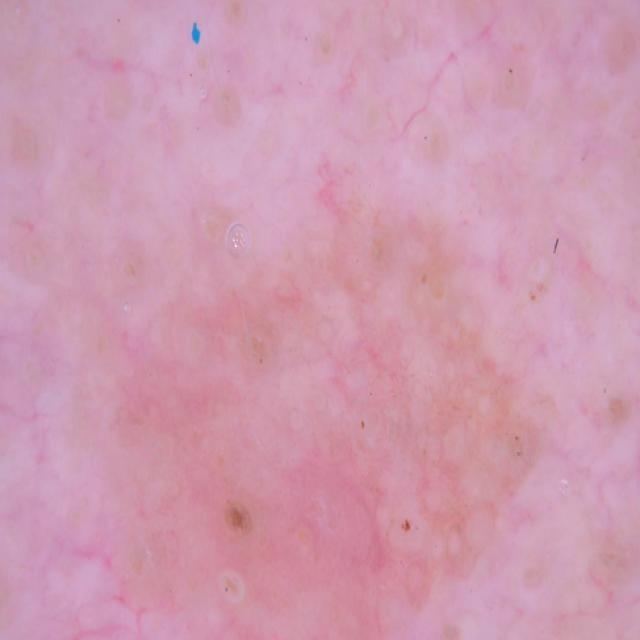Carcinoma: (185, 448, 292, 598)
